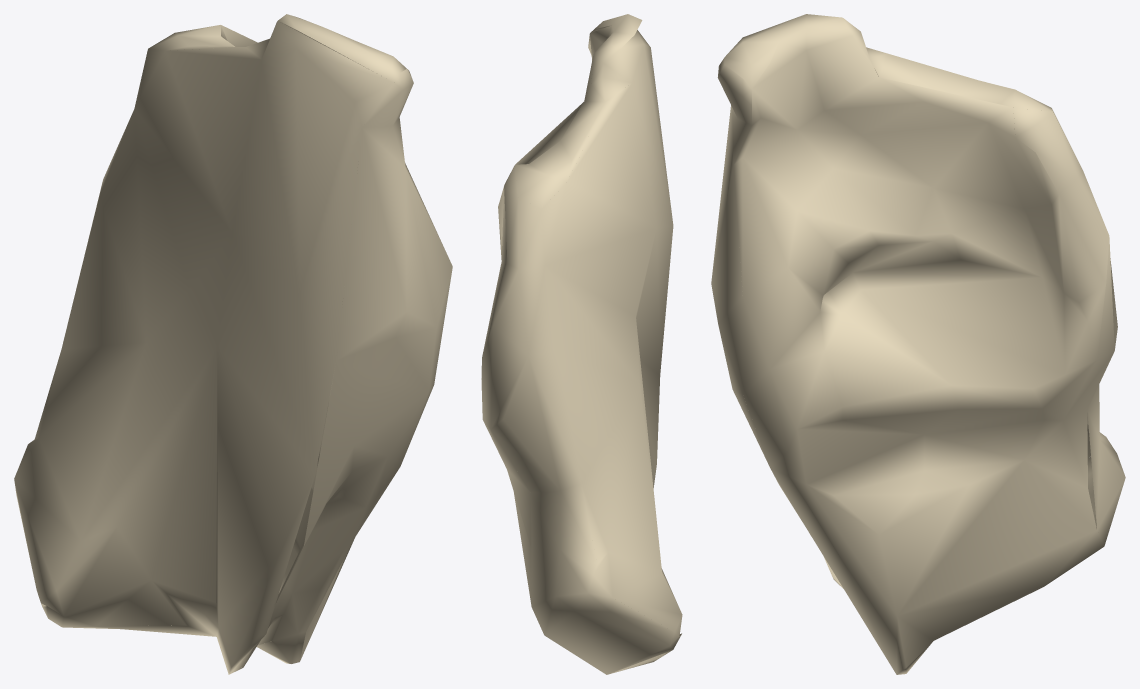
Rendered from esqueleto-lacrimal-bone-r.glb.
3 renders of one model, left to right at view 1: azimuth 30°, elevation 25°; view 2: azimuth 150°, elevation 25°; view 3: azimuth 270°, elevation 25°, orthographic. The views are drawn at different scales.
Visible parts, largest first — view 1: Lacrimal bone.r; view 2: Lacrimal bone.r; view 3: Lacrimal bone.r.
Boxes of the visible parts, x1,y1,x2,y2 form: Lacrimal bone.r: (14, 14, 452, 674); Lacrimal bone.r: (481, 14, 682, 674); Lacrimal bone.r: (711, 14, 1125, 674).
Bounding box in the file's own units: 0.0107 × 0.0251 × 0.0147.
